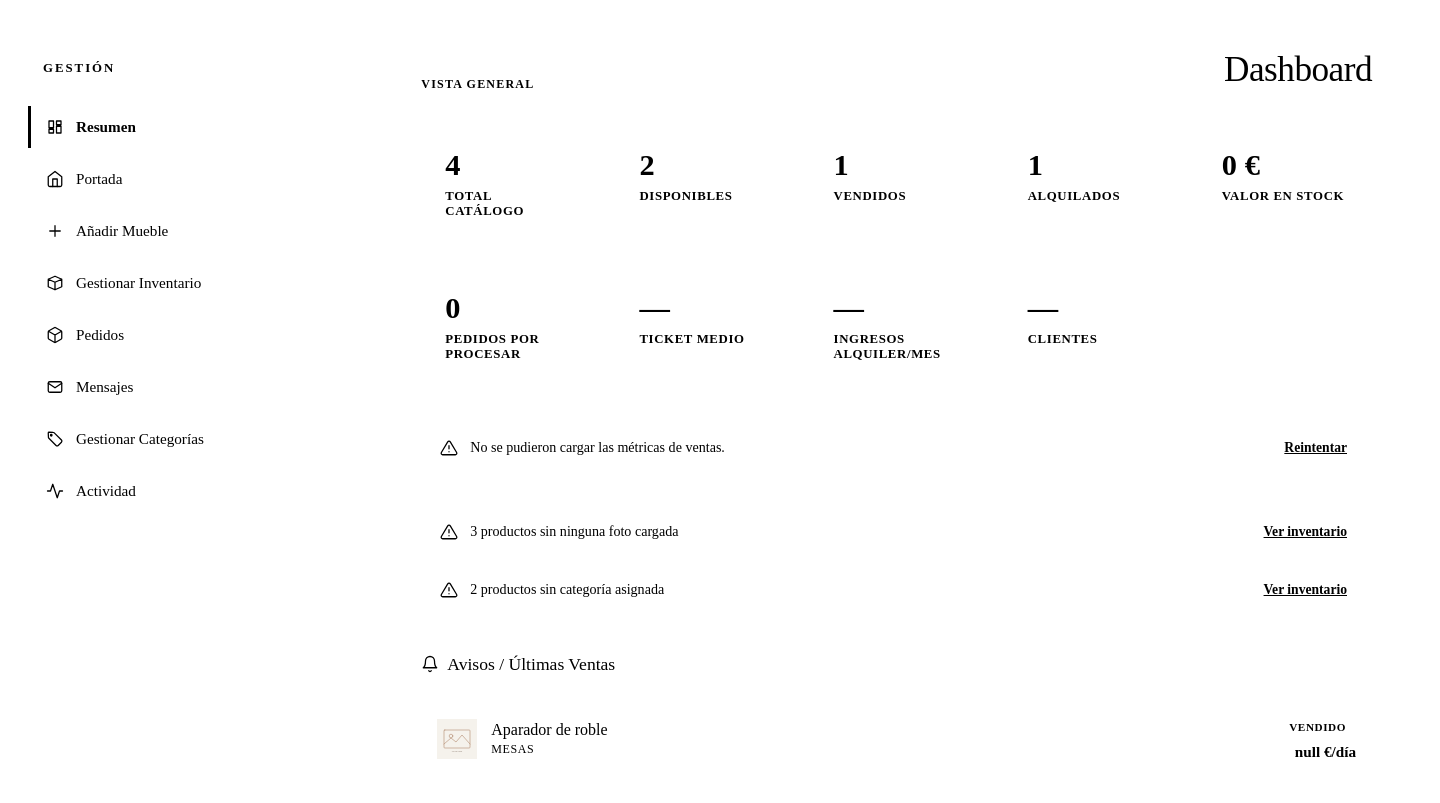
Mensajes con piezas — tarjetas › un mensaje con una referencia enseña su tarjeta: foto, nombre, referencia y estado
The width and height of the screenshot is (1440, 803).
Click the button "Mensajes": (105, 386) [28,366,341,408]
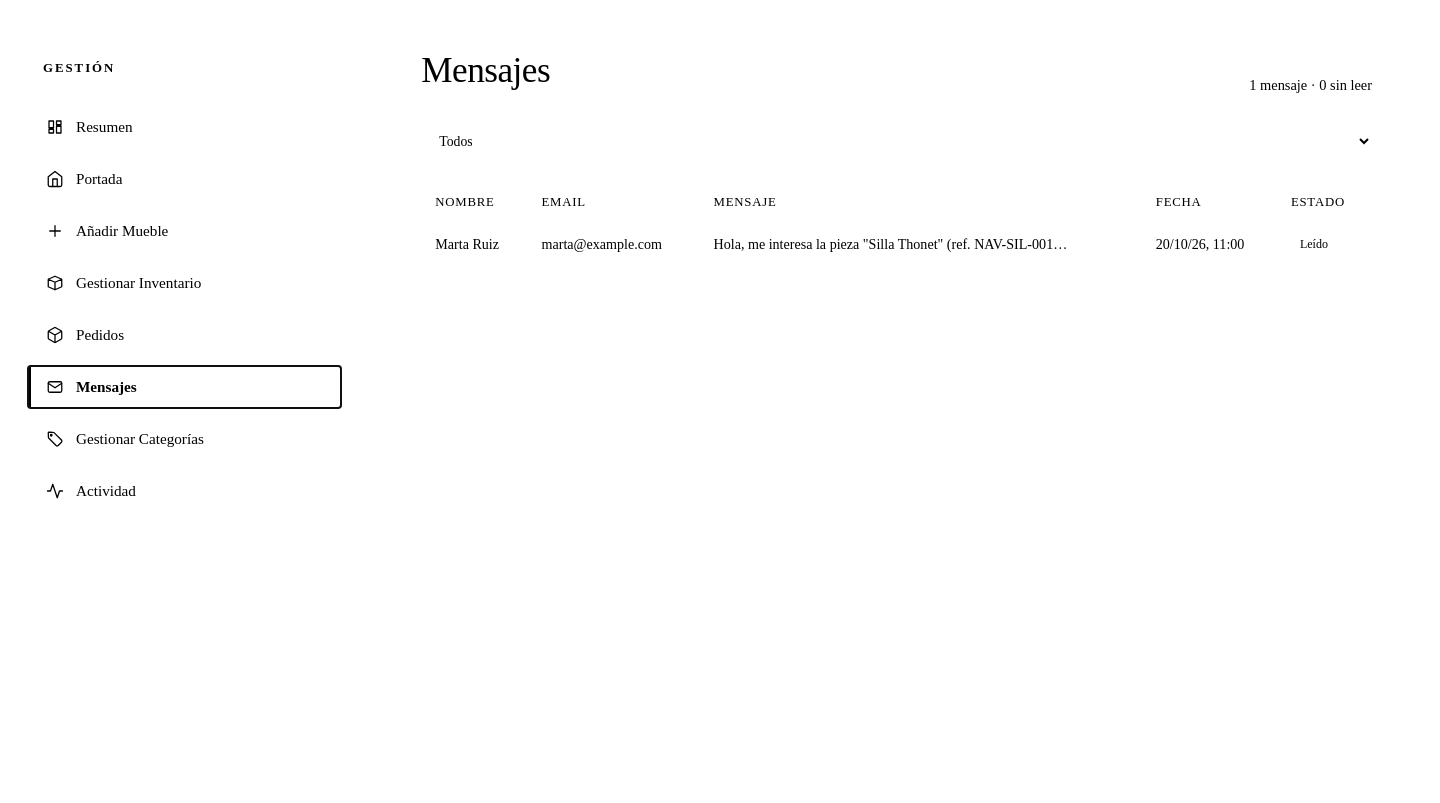
Click the button "Marta Ruiz": (467, 244) [435,236,499,253]
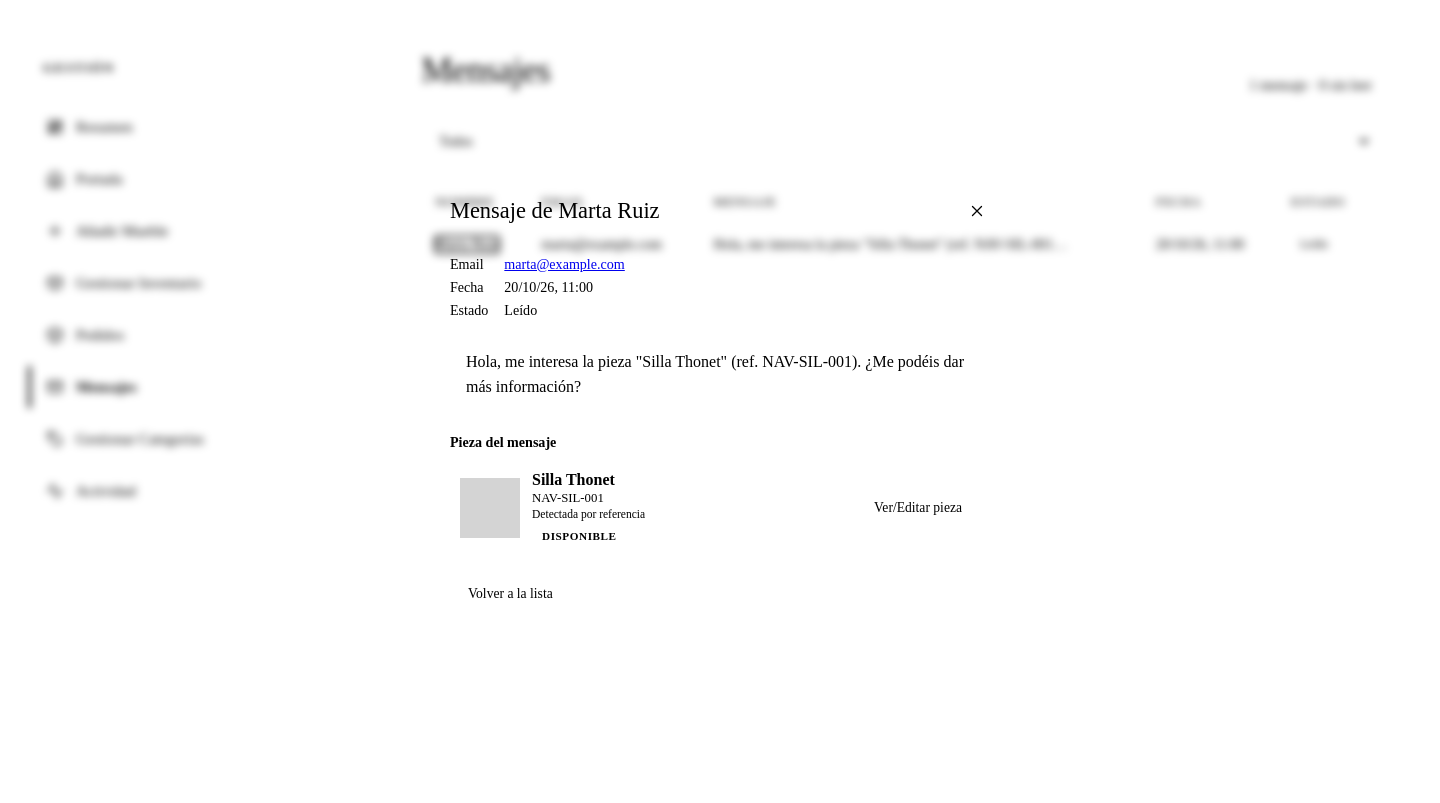
Check: the heading "Pieza del mensaje" is shown, box [450,434,556,450]
Check: the number of list items is 1, box [450,461,990,556]
Check: the text "Silla Thonet" is shown, box [532,471,615,489]
